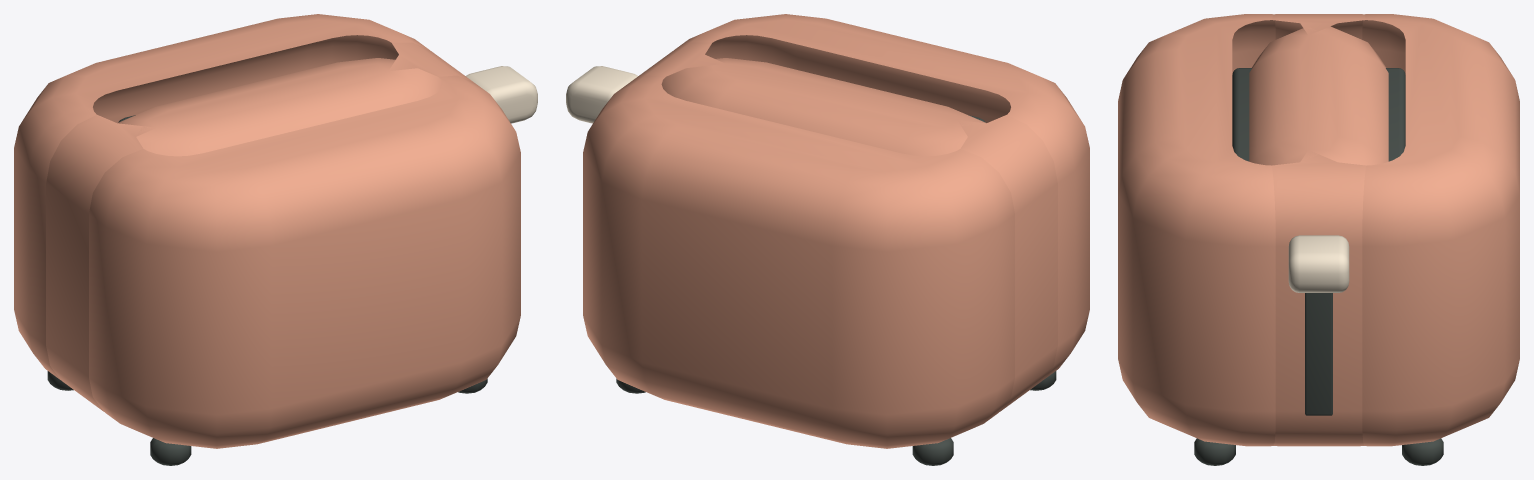
File: toaster.glb
3 views of the same model, side by side, from view 1: azimuth 30°, elevation 25°; view 2: azimuth 150°, elevation 25°; view 3: azimuth 270°, elevation 25° (orthographic).
Parts seen in each view (by area): view 1: Body, LeverKnob, Foot2; view 2: Body, LeverKnob, Foot0; view 3: Body, LeverKnob, LeverSlot, Well, Foot1, Foot3.
Boxes of the visible parts, box(x1,y1,x2,y2) form: Body: box(14, 14, 520, 448); LeverKnob: box(466, 66, 537, 123); Foot2: box(150, 438, 191, 465); Body: box(583, 14, 1089, 448); LeverKnob: box(566, 66, 637, 123); Foot0: box(912, 438, 953, 465); Body: box(1118, 14, 1519, 446); LeverKnob: box(1288, 235, 1349, 292); LeverSlot: box(1305, 293, 1332, 415); Well: box(1232, 68, 1405, 161); Foot1: box(1402, 438, 1443, 465); Foot3: box(1194, 438, 1235, 465).
Bounding box in the file's own units: 0.31 × 0.187 × 0.232.
